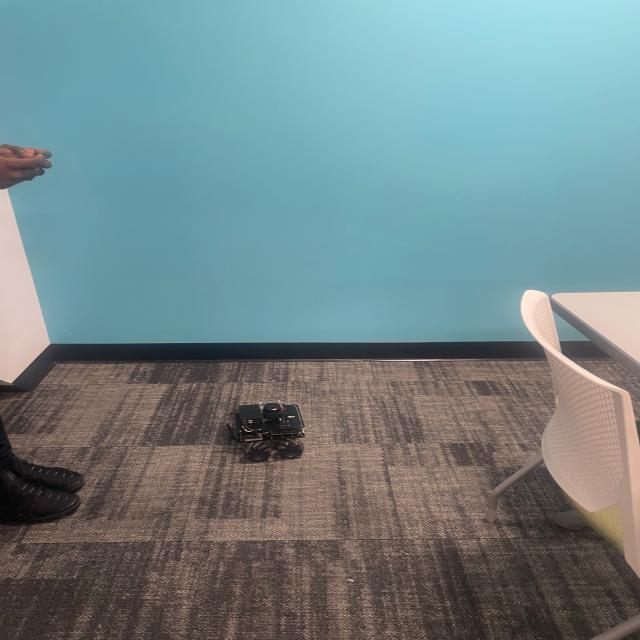ArduinoCar3: (222, 400, 307, 462)
